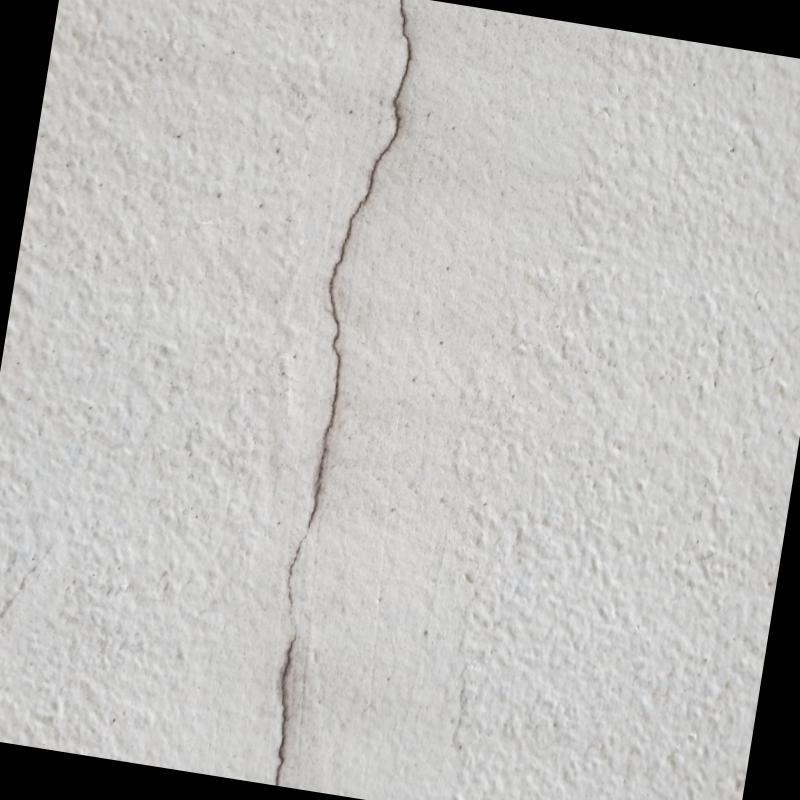pothole: (262, 5, 420, 779)
